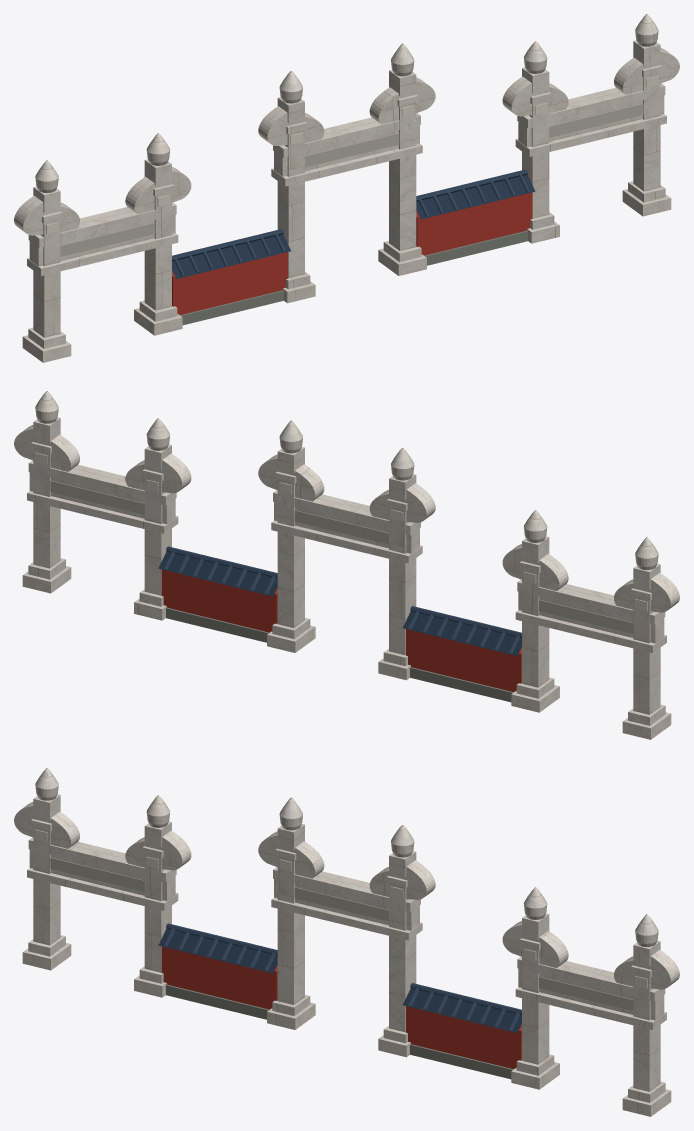
File: mound-inner-gate-preview.glb
The picture shows the model from 3 angles, top to bottom: view 1: azimuth 30°, elevation 25°; view 2: azimuth 150°, elevation 25°; view 3: azimuth 330°, elevation 25°; orthographic projection.
Visible parts, largest first — view 1: mound-inner-gate stone, mound-inner-gate red, mound-inner-gate blueRoof, mound-inner-gate recess, mound-inner-gate blueTile, mound-inner-gate base, mound-inner-gate relief; view 2: mound-inner-gate stone, mound-inner-gate red, mound-inner-gate blueRoof, mound-inner-gate recess, mound-inner-gate blueTile, mound-inner-gate base, mound-inner-gate relief; view 3: mound-inner-gate stone, mound-inner-gate red, mound-inner-gate blueRoof, mound-inner-gate recess, mound-inner-gate blueTile, mound-inner-gate base, mound-inner-gate relief.
Part boxes in pixels (x1,y1,x2,y2): mound-inner-gate stone: [14, 14, 679, 362]; mound-inner-gate red: [172, 192, 532, 314]; mound-inner-gate blueRoof: [172, 174, 535, 278]; mound-inner-gate recess: [60, 103, 643, 256]; mound-inner-gate blueTile: [172, 169, 529, 276]; mound-inner-gate base: [180, 230, 527, 325]; mound-inner-gate relief: [46, 75, 658, 233]; mound-inner-gate stone: [14, 391, 679, 739]; mound-inner-gate red: [161, 569, 521, 691]; mound-inner-gate blueRoof: [158, 551, 521, 655]; mound-inner-gate recess: [50, 480, 633, 633]; mound-inner-gate blueTile: [164, 546, 521, 653]; mound-inner-gate base: [166, 607, 513, 702]; mound-inner-gate relief: [35, 452, 647, 610]; mound-inner-gate stone: [14, 768, 679, 1116]; mound-inner-gate red: [161, 946, 521, 1068]; mound-inner-gate blueRoof: [158, 928, 521, 1032]; mound-inner-gate recess: [50, 857, 633, 1010]; mound-inner-gate blueTile: [164, 923, 521, 1030]; mound-inner-gate base: [166, 984, 513, 1079]; mound-inner-gate relief: [35, 829, 647, 987].
Size of the model in its own units: 0.1675 by 0.0539 by 0.009.
Materials: 7 (1 with a texture image).
